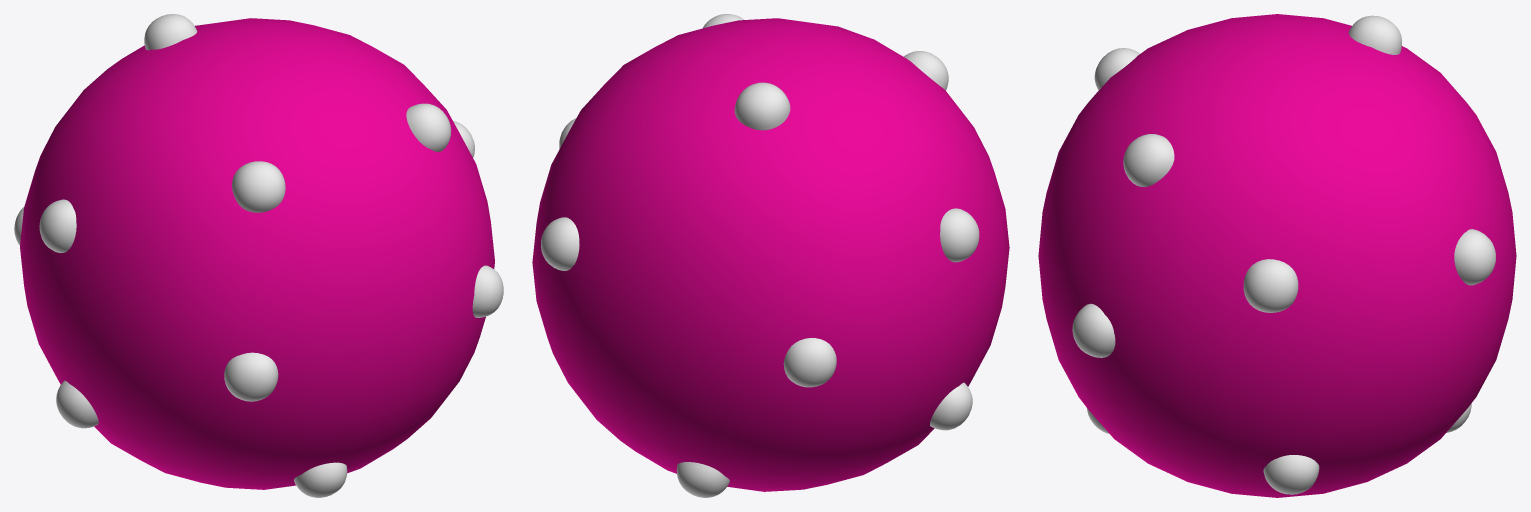
Rendered from ball.fbx.
3 views of the same model, side by side, from view 1: azimuth 30°, elevation 25°; view 2: azimuth 150°, elevation 25°; view 3: azimuth 270°, elevation 25° (orthographic). The views are drawn at different scales.
Parts seen in each view (by area): view 1: ball; view 2: ball; view 3: ball.
Boxes of the visible parts, x1,y1,x2,y2 form: ball: [14, 14, 503, 497]; ball: [532, 14, 1009, 497]; ball: [1038, 14, 1516, 497].
Bounding box in the file's own units: 1.76 × 1.7 × 1.7.
